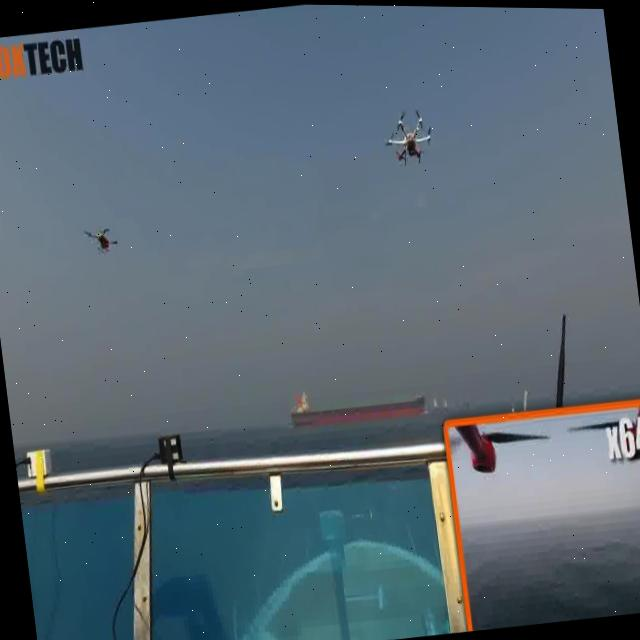drone: (54, 171, 154, 302)
